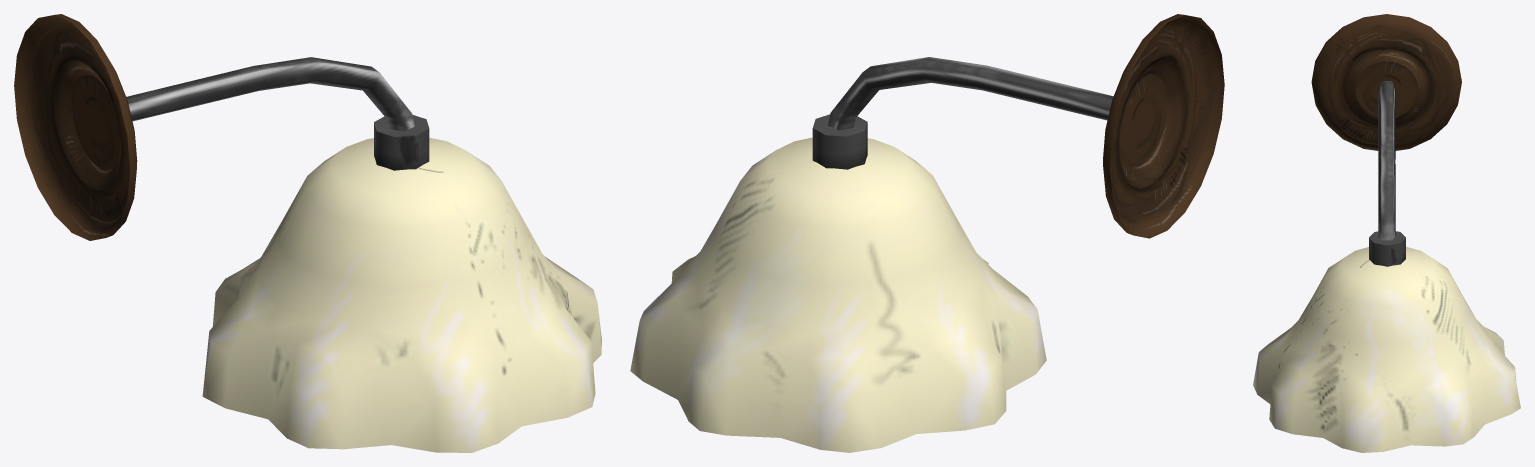
File: lamp_wallFloral.fbx
The picture shows the model from 3 angles, left to right: view 1: azimuth 30°, elevation 25°; view 2: azimuth 150°, elevation 25°; view 3: azimuth 270°, elevation 25°; orthographic projection. The views are drawn at different scales.
Visible parts, largest first — view 1: polySurface6, polySurface1765; view 2: polySurface6, polySurface1765; view 3: polySurface6, polySurface1765.
Boxes of the visible parts, left/top/right/bottom form: polySurface6: left=202, top=137, right=601, bottom=452; polySurface1765: left=14, top=14, right=429, bottom=240; polySurface6: left=630, top=137, right=1046, bottom=452; polySurface1765: left=812, top=14, right=1224, bottom=238; polySurface6: left=1253, top=246, right=1520, bottom=452; polySurface1765: left=1311, top=14, right=1461, bottom=266.
Bounding box in the file's own units: 52.62 × 42.29 × 36.85.
